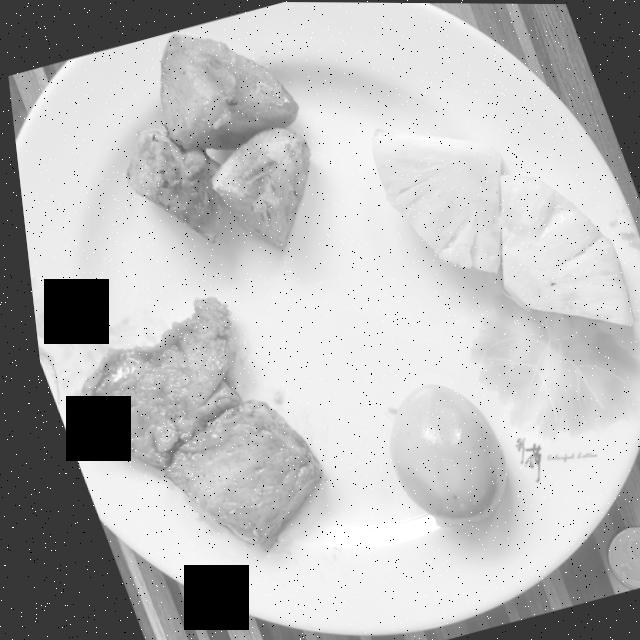coin: (594, 524, 640, 587)
creamy tofu: (7, 2, 640, 640), (64, 295, 310, 547)
fried potato: (122, 32, 306, 246)
pineapple: (368, 126, 627, 324)
soy egg: (379, 382, 495, 523)
